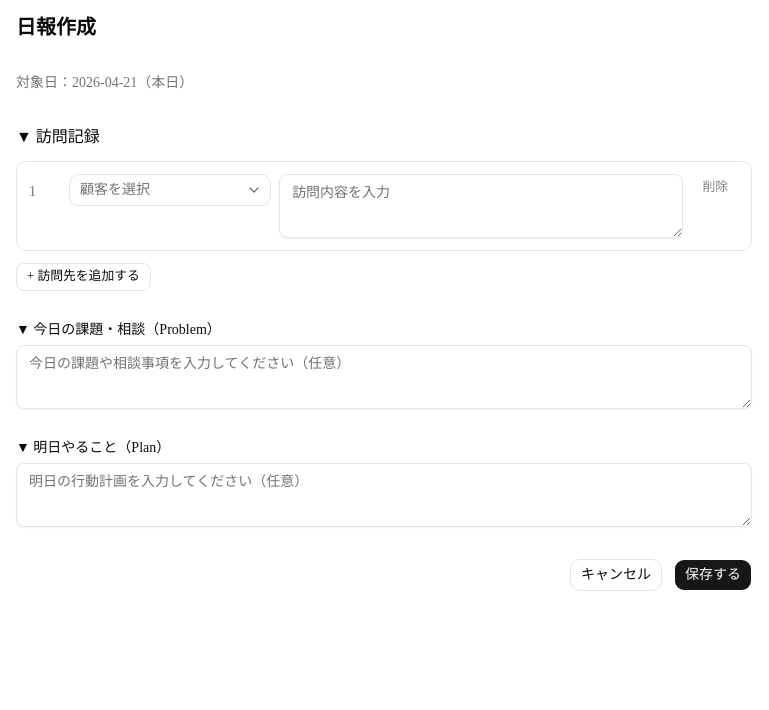
Test: SCR-T-003-4: 訪問先の削除 › 2行あるときに2行目の削除ボタンをクリックすると1行に減る
The width and height of the screenshot is (769, 710).
Click the button "+ 訪問先を追加する" at (83, 277), box x1=16 y1=263 x2=151 y2=291
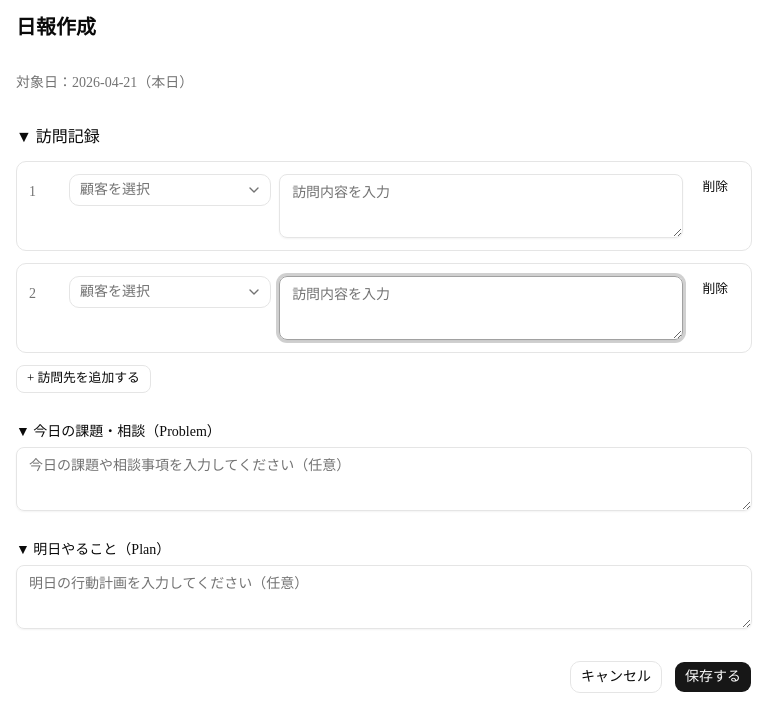
Result: the number of buttons "削除" is 2
Click the button with aria-label "訪問記録2を削除" at (715, 290), box x1=691 y1=276 x2=739 y2=304
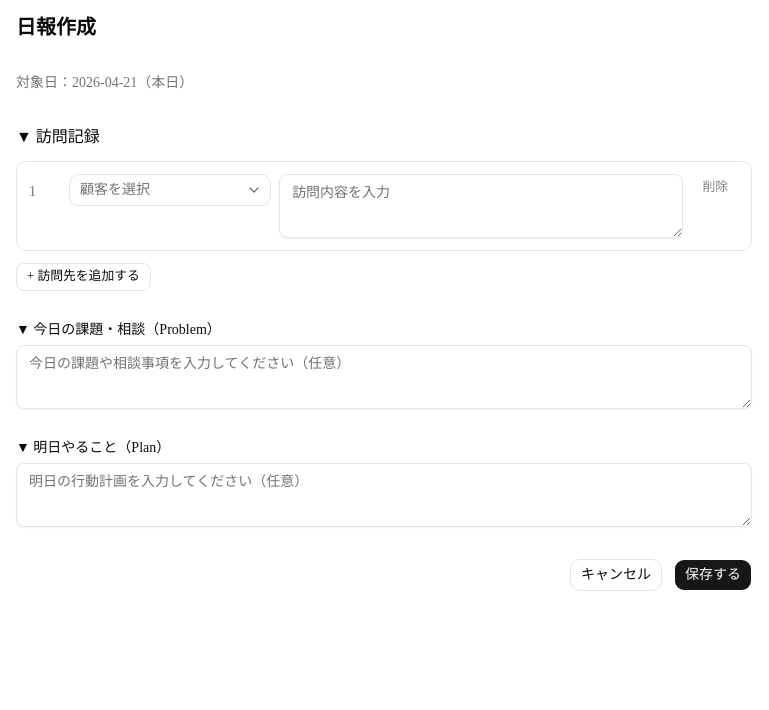
Result: the number of buttons "削除" is 1 at x1=691 y1=174 x2=739 y2=202
